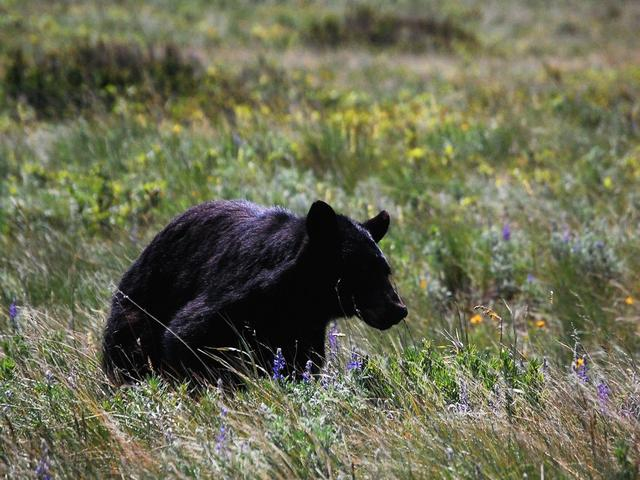Bear: (110, 203, 414, 385)
